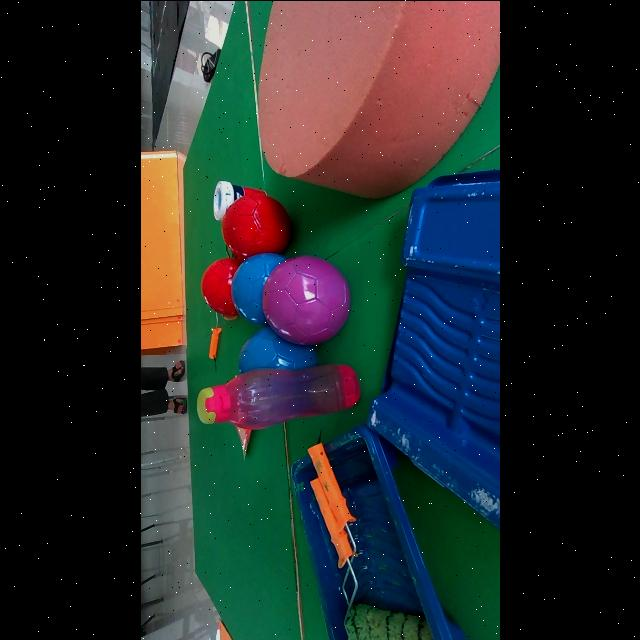B: (230, 251, 285, 325), (238, 327, 316, 371)
P: (262, 254, 350, 344)
R: (221, 192, 291, 259), (200, 257, 240, 316)
